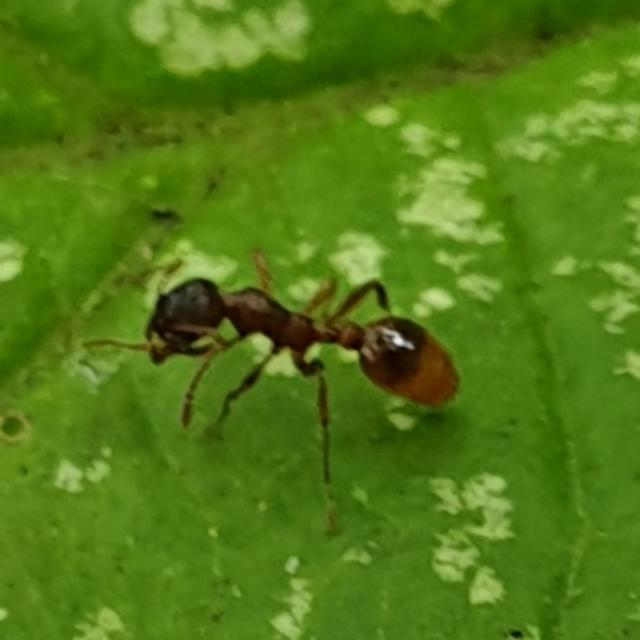Myrmica: (99, 211, 467, 463)
